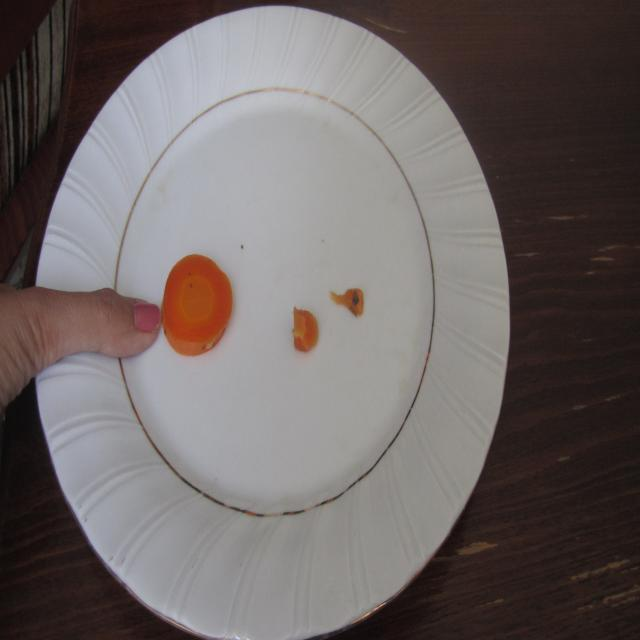Carrot: (159, 248, 238, 360)
Finger: (86, 284, 162, 364)
